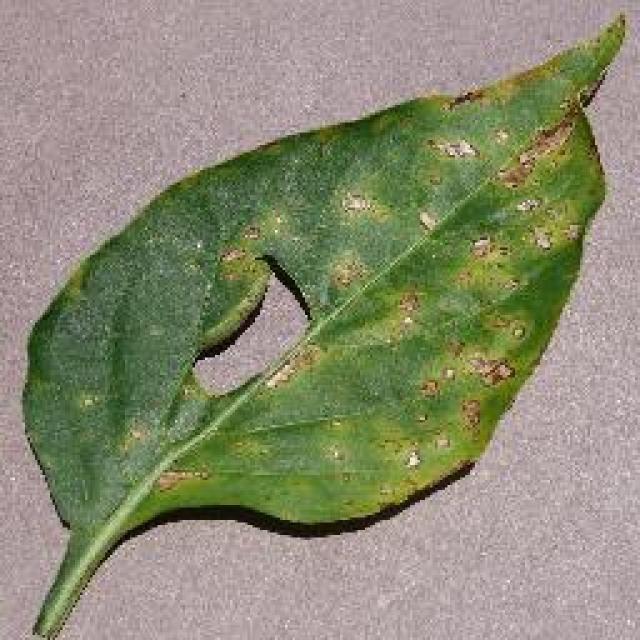Chilli_Bacterial_Spot: (15, 8, 633, 638), (490, 105, 580, 193), (335, 185, 393, 227), (465, 350, 517, 390), (325, 253, 370, 295), (425, 133, 483, 165), (493, 150, 535, 192), (455, 392, 485, 432), (335, 188, 373, 218), (525, 223, 555, 255), (465, 230, 495, 260), (72, 388, 102, 418), (412, 205, 440, 235), (415, 372, 443, 400), (400, 445, 425, 473)
